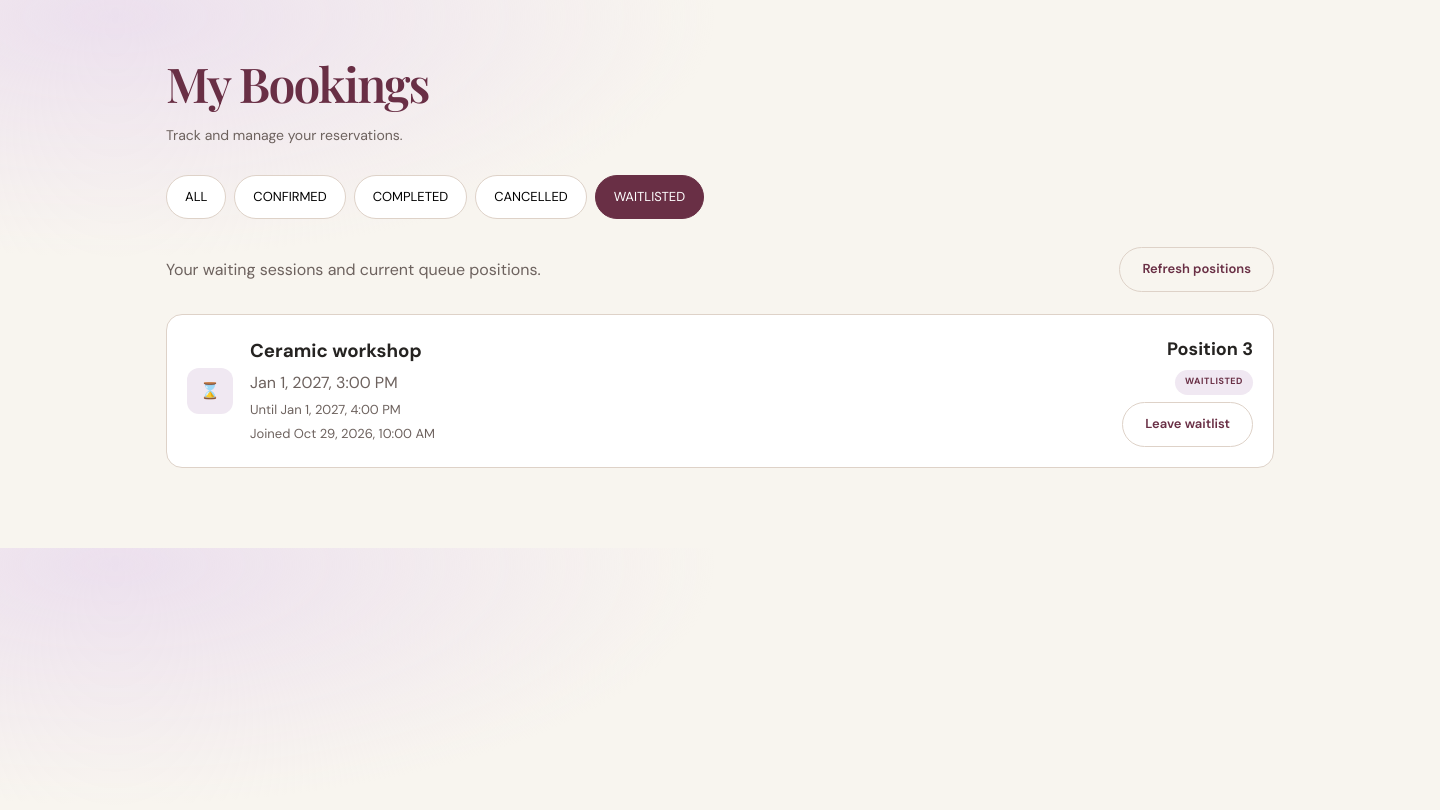
Test case: refreshes queue positions in Bookings
The image size is (1440, 810).
Expected: the text "Position 3" is shown, [1167, 335, 1253, 364]
Click the button "Refresh positions": (1197, 270) [1120, 248, 1274, 292]
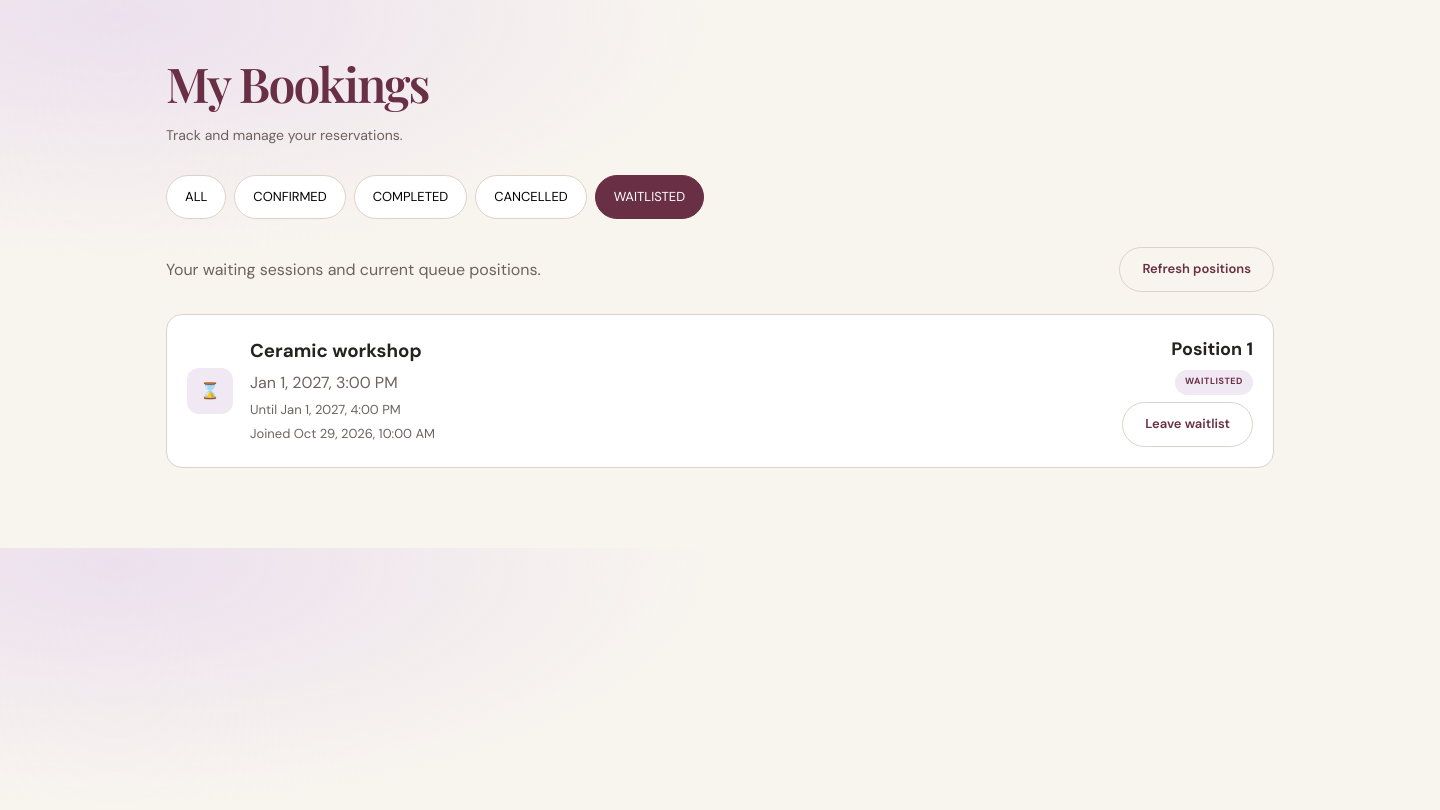
Expected: the text "Position 1" is shown, [1171, 335, 1253, 364]
